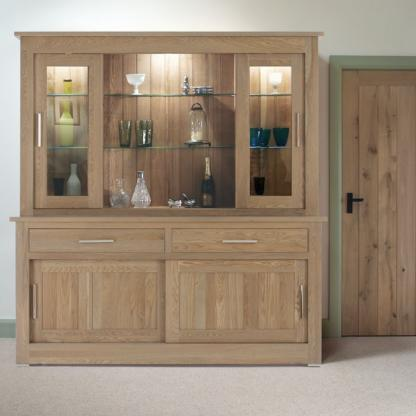Cupboard: (20, 31, 325, 367)
